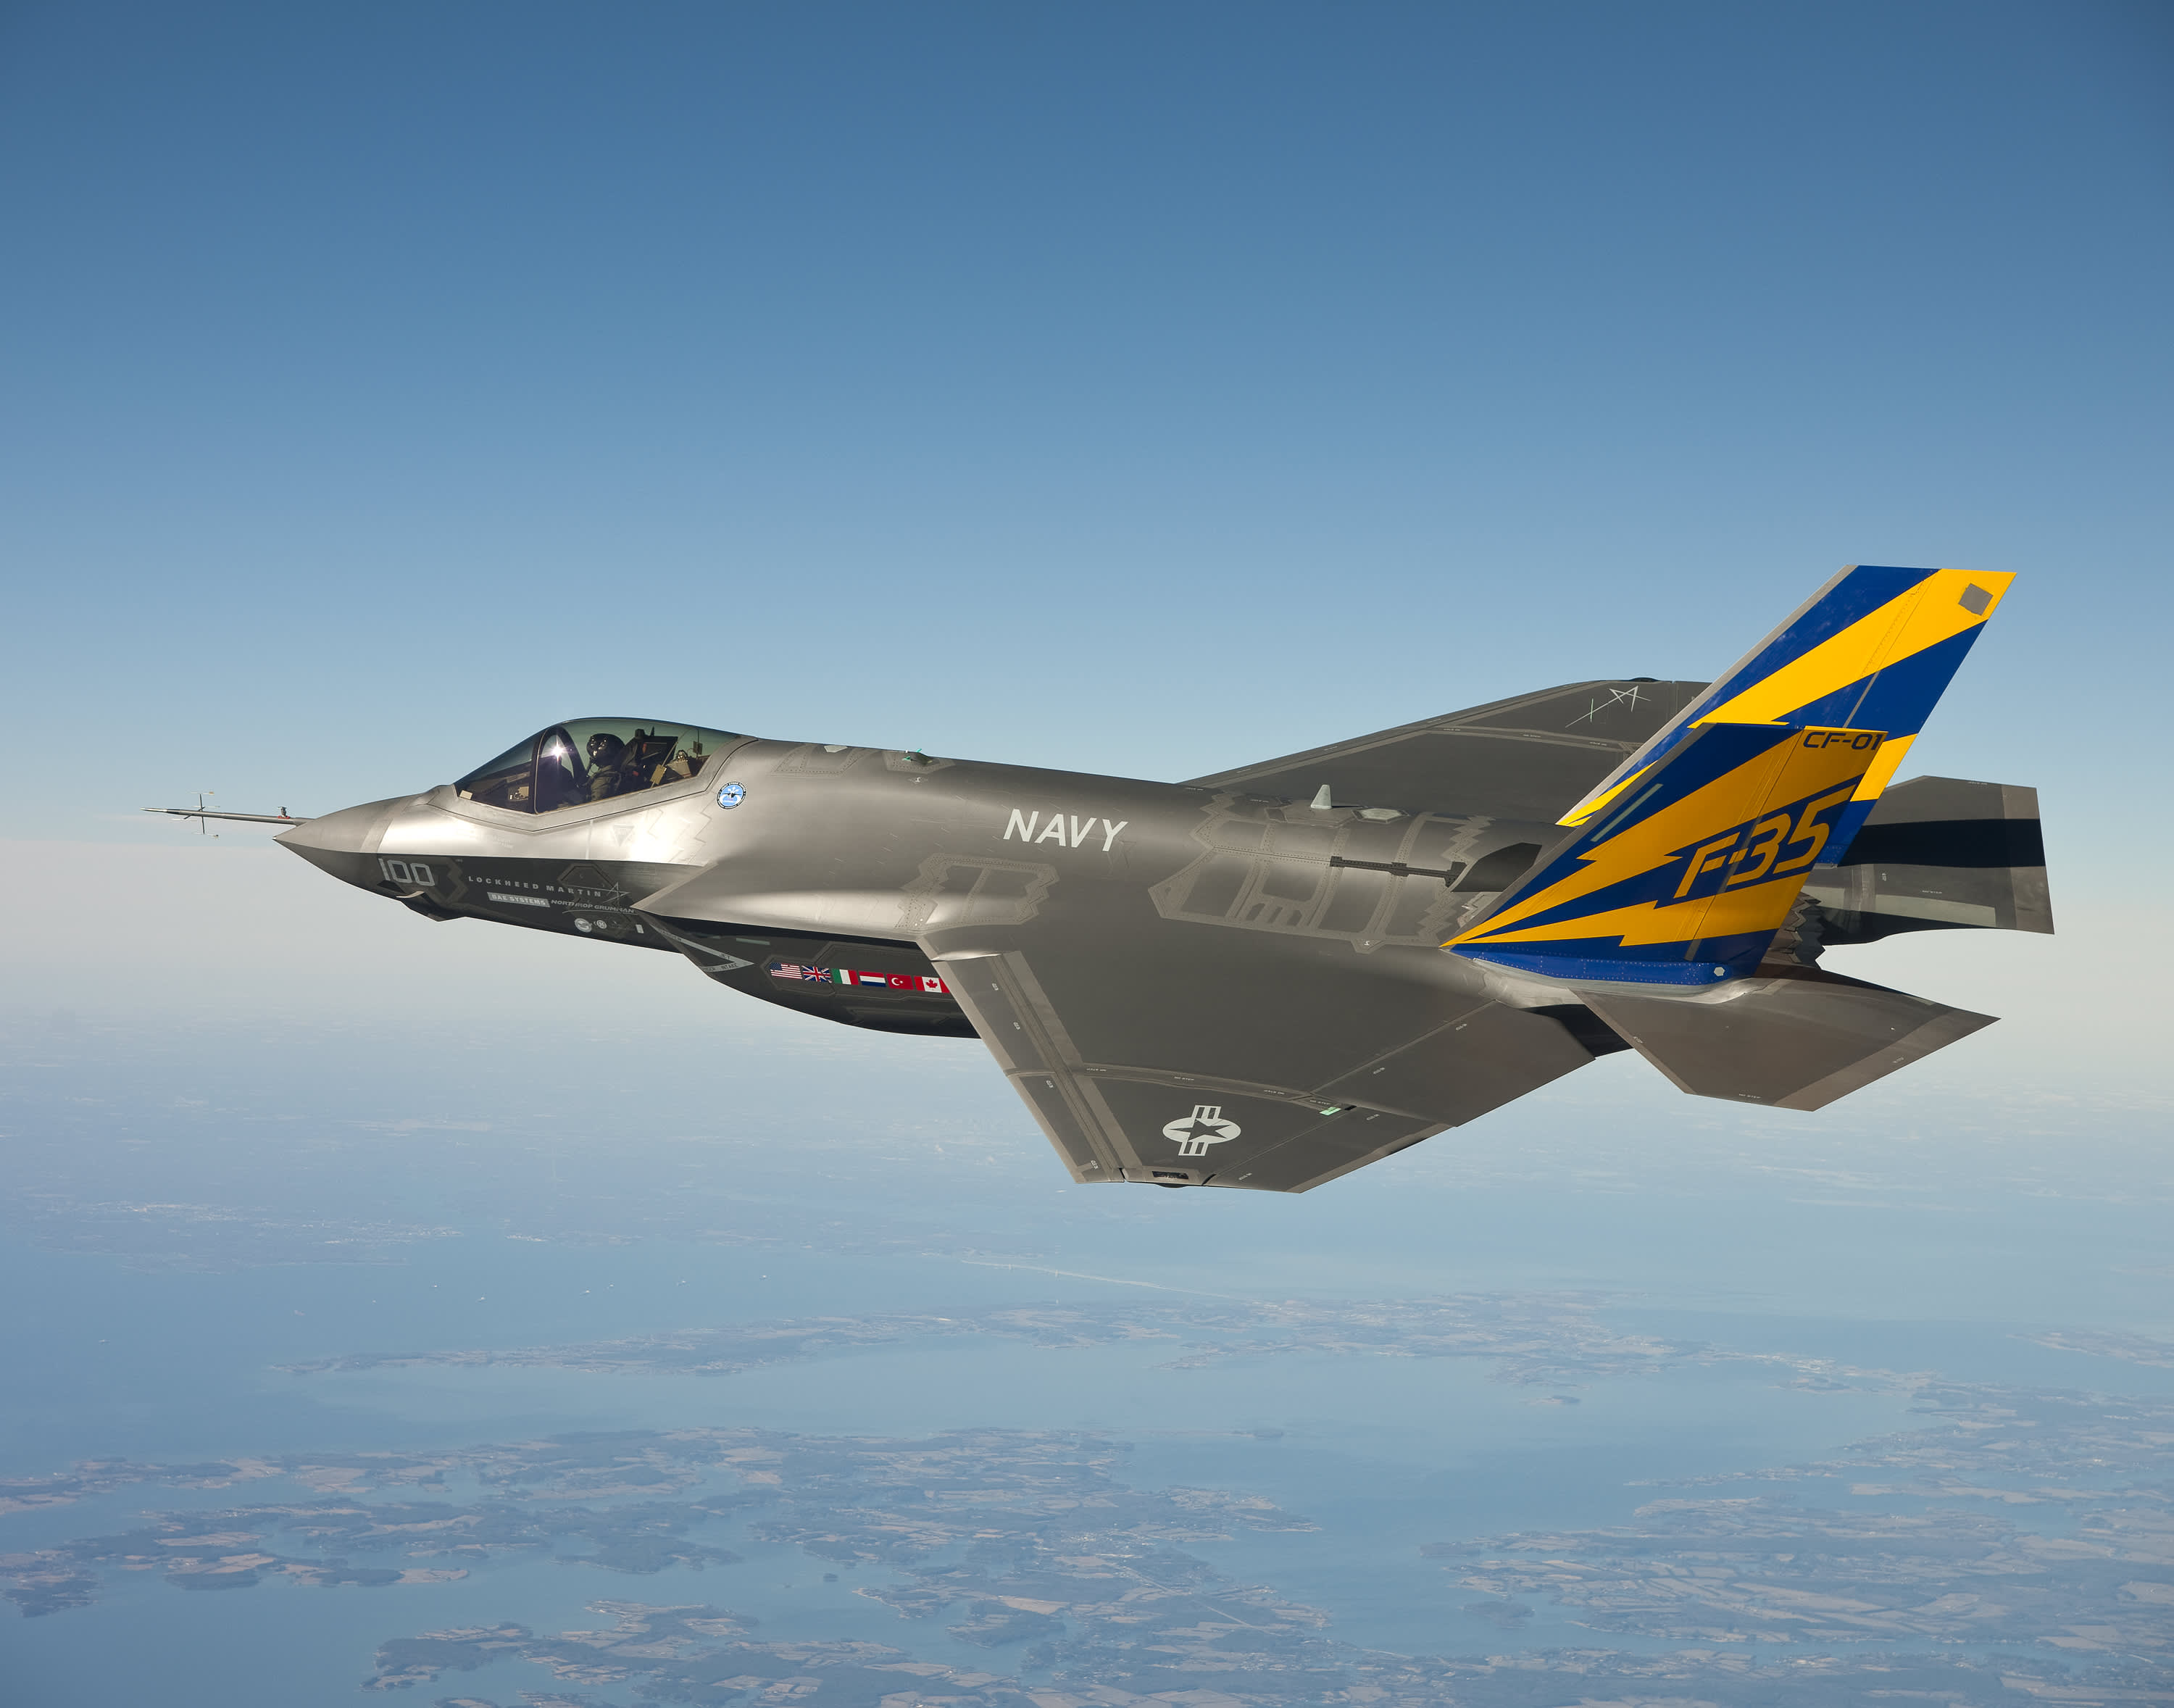F35: (132, 554, 2063, 1200)
